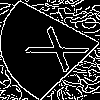X: (24, 25, 100, 79)
